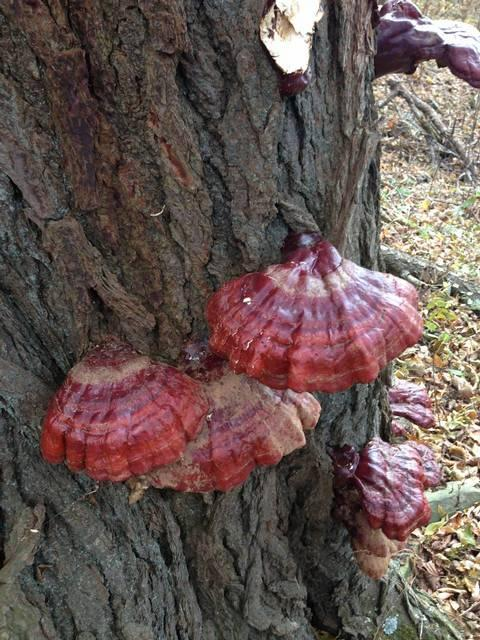poisonous_mushroom: (38, 331, 463, 551), (203, 229, 424, 393)
